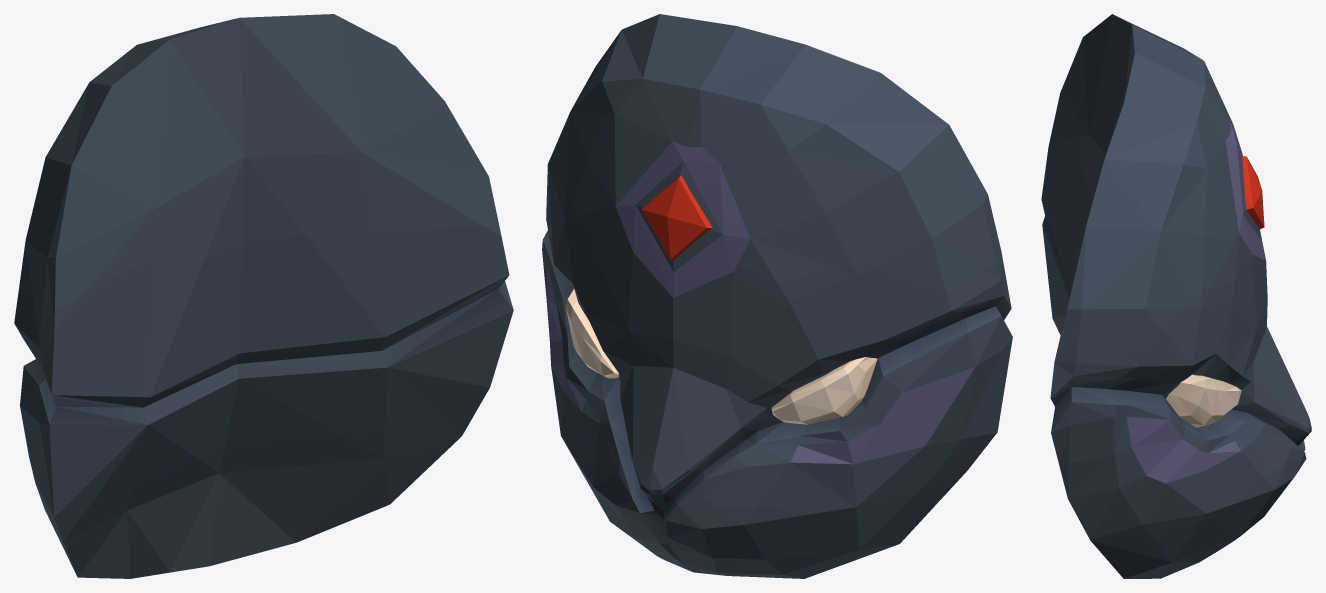
File: CharSkyKid_Mask_MischiefCat.glb
3 views of the same model, side by side, from view 1: azimuth 30°, elevation 25°; view 2: azimuth 150°, elevation 25°; view 3: azimuth 270°, elevation 25° (orthographic). The views are drawn at different scales.
Parts seen in each view (by area): view 1: CharSkyKid_Mask_MischiefCat; view 2: CharSkyKid_Mask_MischiefCat; view 3: CharSkyKid_Mask_MischiefCat.
Boxes of the visible parts, x1,y1,x2,y2 form: CharSkyKid_Mask_MischiefCat: [14, 14, 513, 578]; CharSkyKid_Mask_MischiefCat: [542, 14, 1012, 578]; CharSkyKid_Mask_MischiefCat: [1041, 14, 1311, 578].
Size of the model in its own units: 2.16 by 2.49 by 1.21.
Materials: 1 (1 with a texture image).
